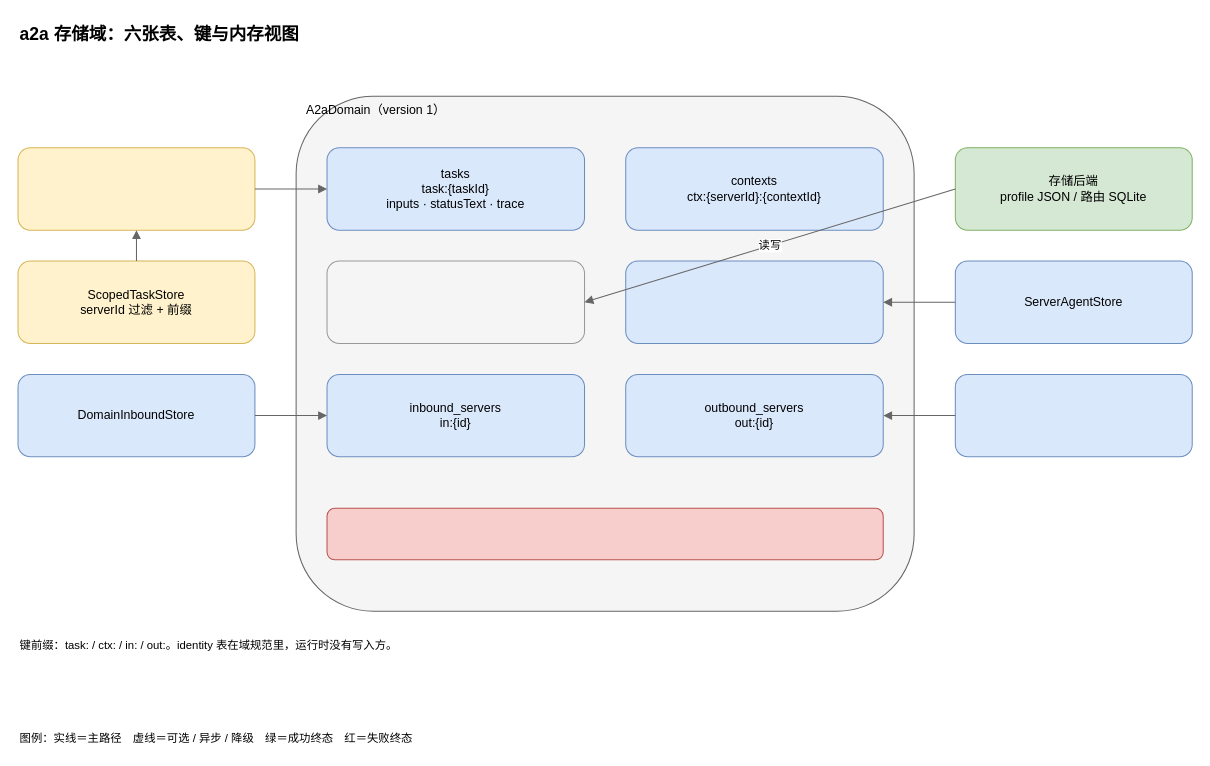
The diagram is 1210 pixels wide and 766 high, and some of its shapes have lost their labels. Here are the shapes that lost their labels. From the top down, the centre of each, then its label:
At (x=136, y=188): "DomainTaskStore 内存视图 + 排队写入".
At (x=455, y=302): "identity service（无运行时写入方）".
At (x=754, y=302): "agents out:{id} → JSON 数组".
At (x=1073, y=415): "DomainOutboundStore".
At (x=604, y=533): "remove 写空字符串 tombstone；list 跳过空值与坏记录".
